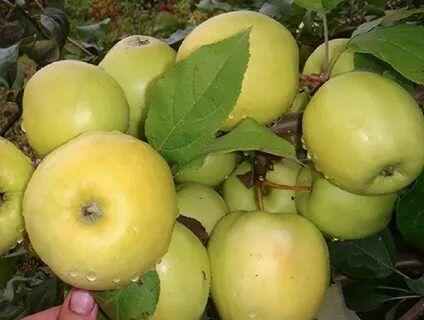Apple: (22, 132, 178, 290), (302, 73, 420, 193)
